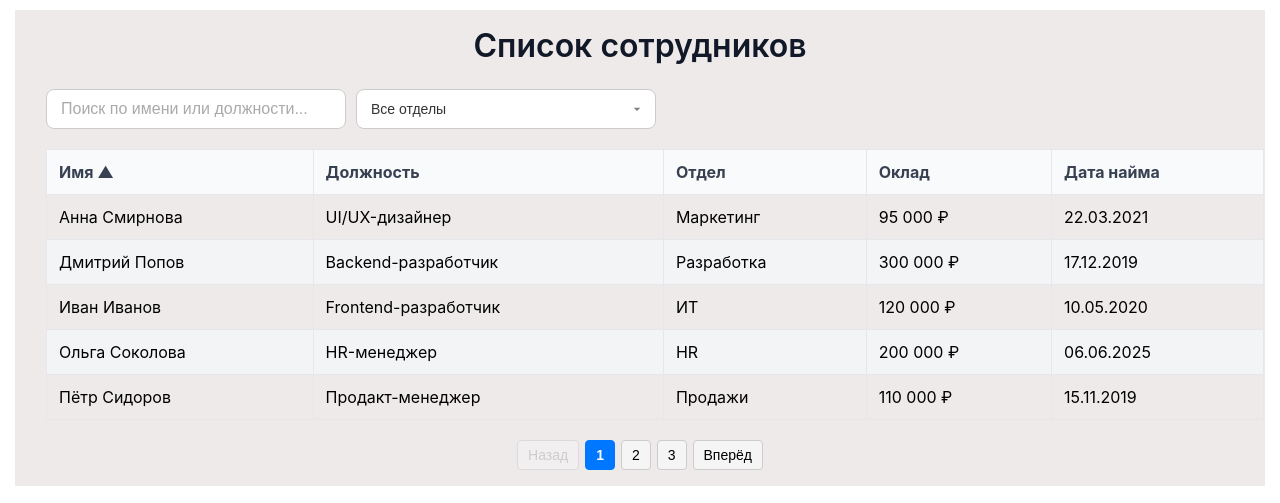
it: пагинация работает корректно
Click the button "Вперёд" at [728, 455], box left=692, top=440, right=763, bottom=470
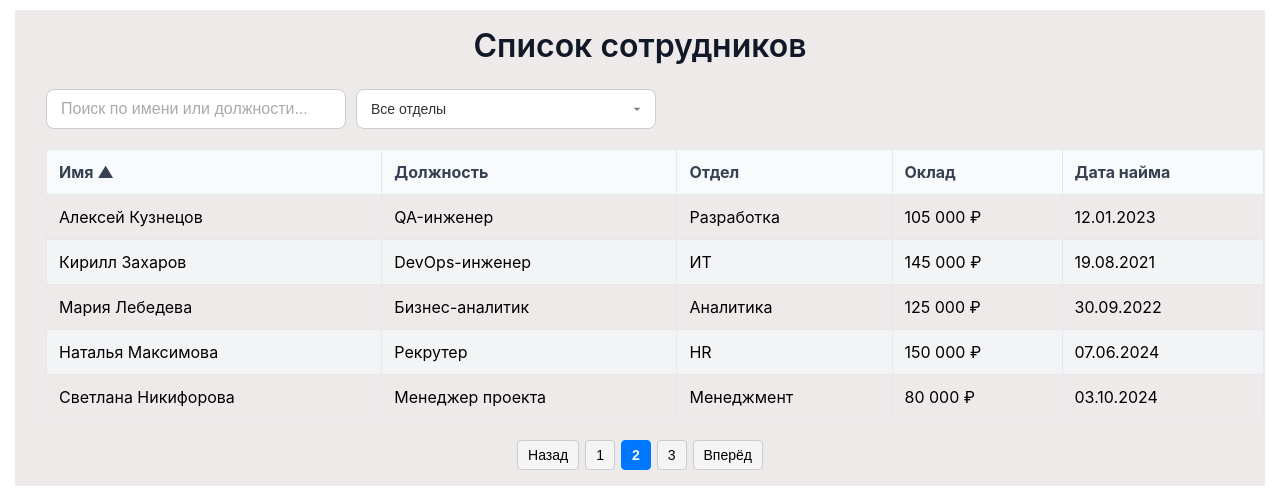
Expected: the text "Светлана Никифорова" is shown, left=46, top=374, right=382, bottom=420
Expected: the text "Иван Иванов" is gone
